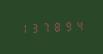eight: (51, 20, 61, 33)
four: (73, 18, 83, 32)
nine: (62, 19, 72, 32)
one: (17, 21, 27, 35)
seven: (40, 20, 50, 34)
three: (28, 21, 38, 34)
